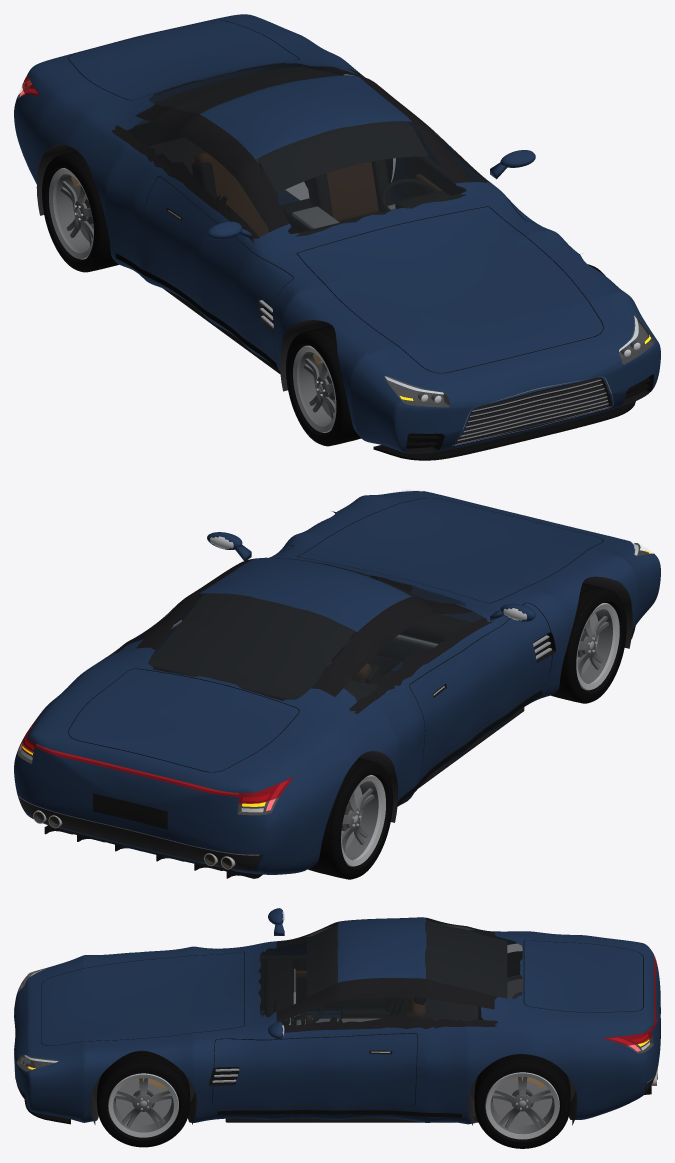
File: TitanGT_complete_unity.fbx
3 views of the same model, one above another, from view 1: azimuth 30°, elevation 25°; view 2: azimuth 150°, elevation 25°; view 3: azimuth 270°, elevation 25° (orthographic). The views are drawn at different scales.
Visible parts, largest first — view 1: Body_LOD0, Glass_LOD0, Interior_LOD0, Trim_LOD0, Tire_FR_LOD0, Tire_RR_LOD0, Wheel_RR_LOD0, Wheel_FR_LOD0, Lights_LOD0; view 2: Body_LOD0, Glass_LOD0, Interior_LOD0, Trim_LOD0, Tire_RR_LOD0, Tire_FR_LOD0, Wheel_RR_LOD0, Wheel_FR_LOD0, Lights_LOD0; view 3: Body_LOD0, Glass_LOD0, Interior_LOD0, Tire_FL_LOD0, Tire_RL_LOD0, Wheel_RL_LOD0, Trim_LOD0, Wheel_FL_LOD0, BrakeDisc_RL_LOD0, BrakeDisc_FL_LOD0, Lights_LOD0, Tire_RR_LOD0.
Boxes of the visible parts, <box> form: Body_LOD0: <box>14,14,660,453</box>; Glass_LOD0: <box>127,63,483,236</box>; Interior_LOD0: <box>149,67,466,374</box>; Trim_LOD0: <box>36,75,650,460</box>; Tire_FR_LOD0: <box>286,325,360,446</box>; Tire_RR_LOD0: <box>42,150,118,272</box>; Wheel_RR_LOD0: <box>49,168,93,259</box>; Wheel_FR_LOD0: <box>293,345,336,432</box>; Lights_LOD0: <box>19,74,651,403</box>; Body_LOD0: <box>14,491,660,874</box>; Glass_LOD0: <box>128,557,484,701</box>; Interior_LOD0: <box>148,583,524,787</box>; Trim_LOD0: <box>17,511,635,878</box>; Tire_RR_LOD0: <box>308,758,392,879</box>; Tire_FR_LOD0: <box>551,583,626,703</box>; Wheel_RR_LOD0: <box>341,775,385,866</box>; Wheel_FR_LOD0: <box>576,603,619,690</box>; Lights_LOD0: <box>19,490,652,812</box>; Body_LOD0: <box>14,908,660,1124</box>; Glass_LOD0: <box>258,918,522,1026</box>; Interior_LOD0: <box>225,920,506,1122</box>; Tire_FL_LOD0: <box>97,1051,190,1147</box>; Tire_RL_LOD0: <box>474,1054,570,1148</box>; Wheel_RL_LOD0: <box>485,1072,559,1139</box>; Trim_LOD0: <box>14,1007,660,1125</box>; Wheel_FL_LOD0: <box>108,1073,178,1137</box>; BrakeDisc_RL_LOD0: <box>492,1077,552,1125</box>; BrakeDisc_FL_LOD0: <box>115,1079,171,1125</box>; Lights_LOD0: <box>21,954,656,1069</box>; Tire_RR_LOD0: <box>478,951,522,1019</box>.
Size of what is drawn, in the model's own units: 2.23 by 1.27 by 4.81.
Materials: 15 (3 with a texture image).
